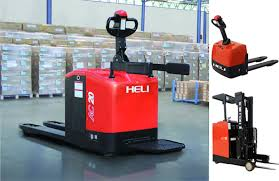Pallet Jack: (15, 9, 191, 157), (212, 91, 279, 173), (211, 15, 278, 80)
